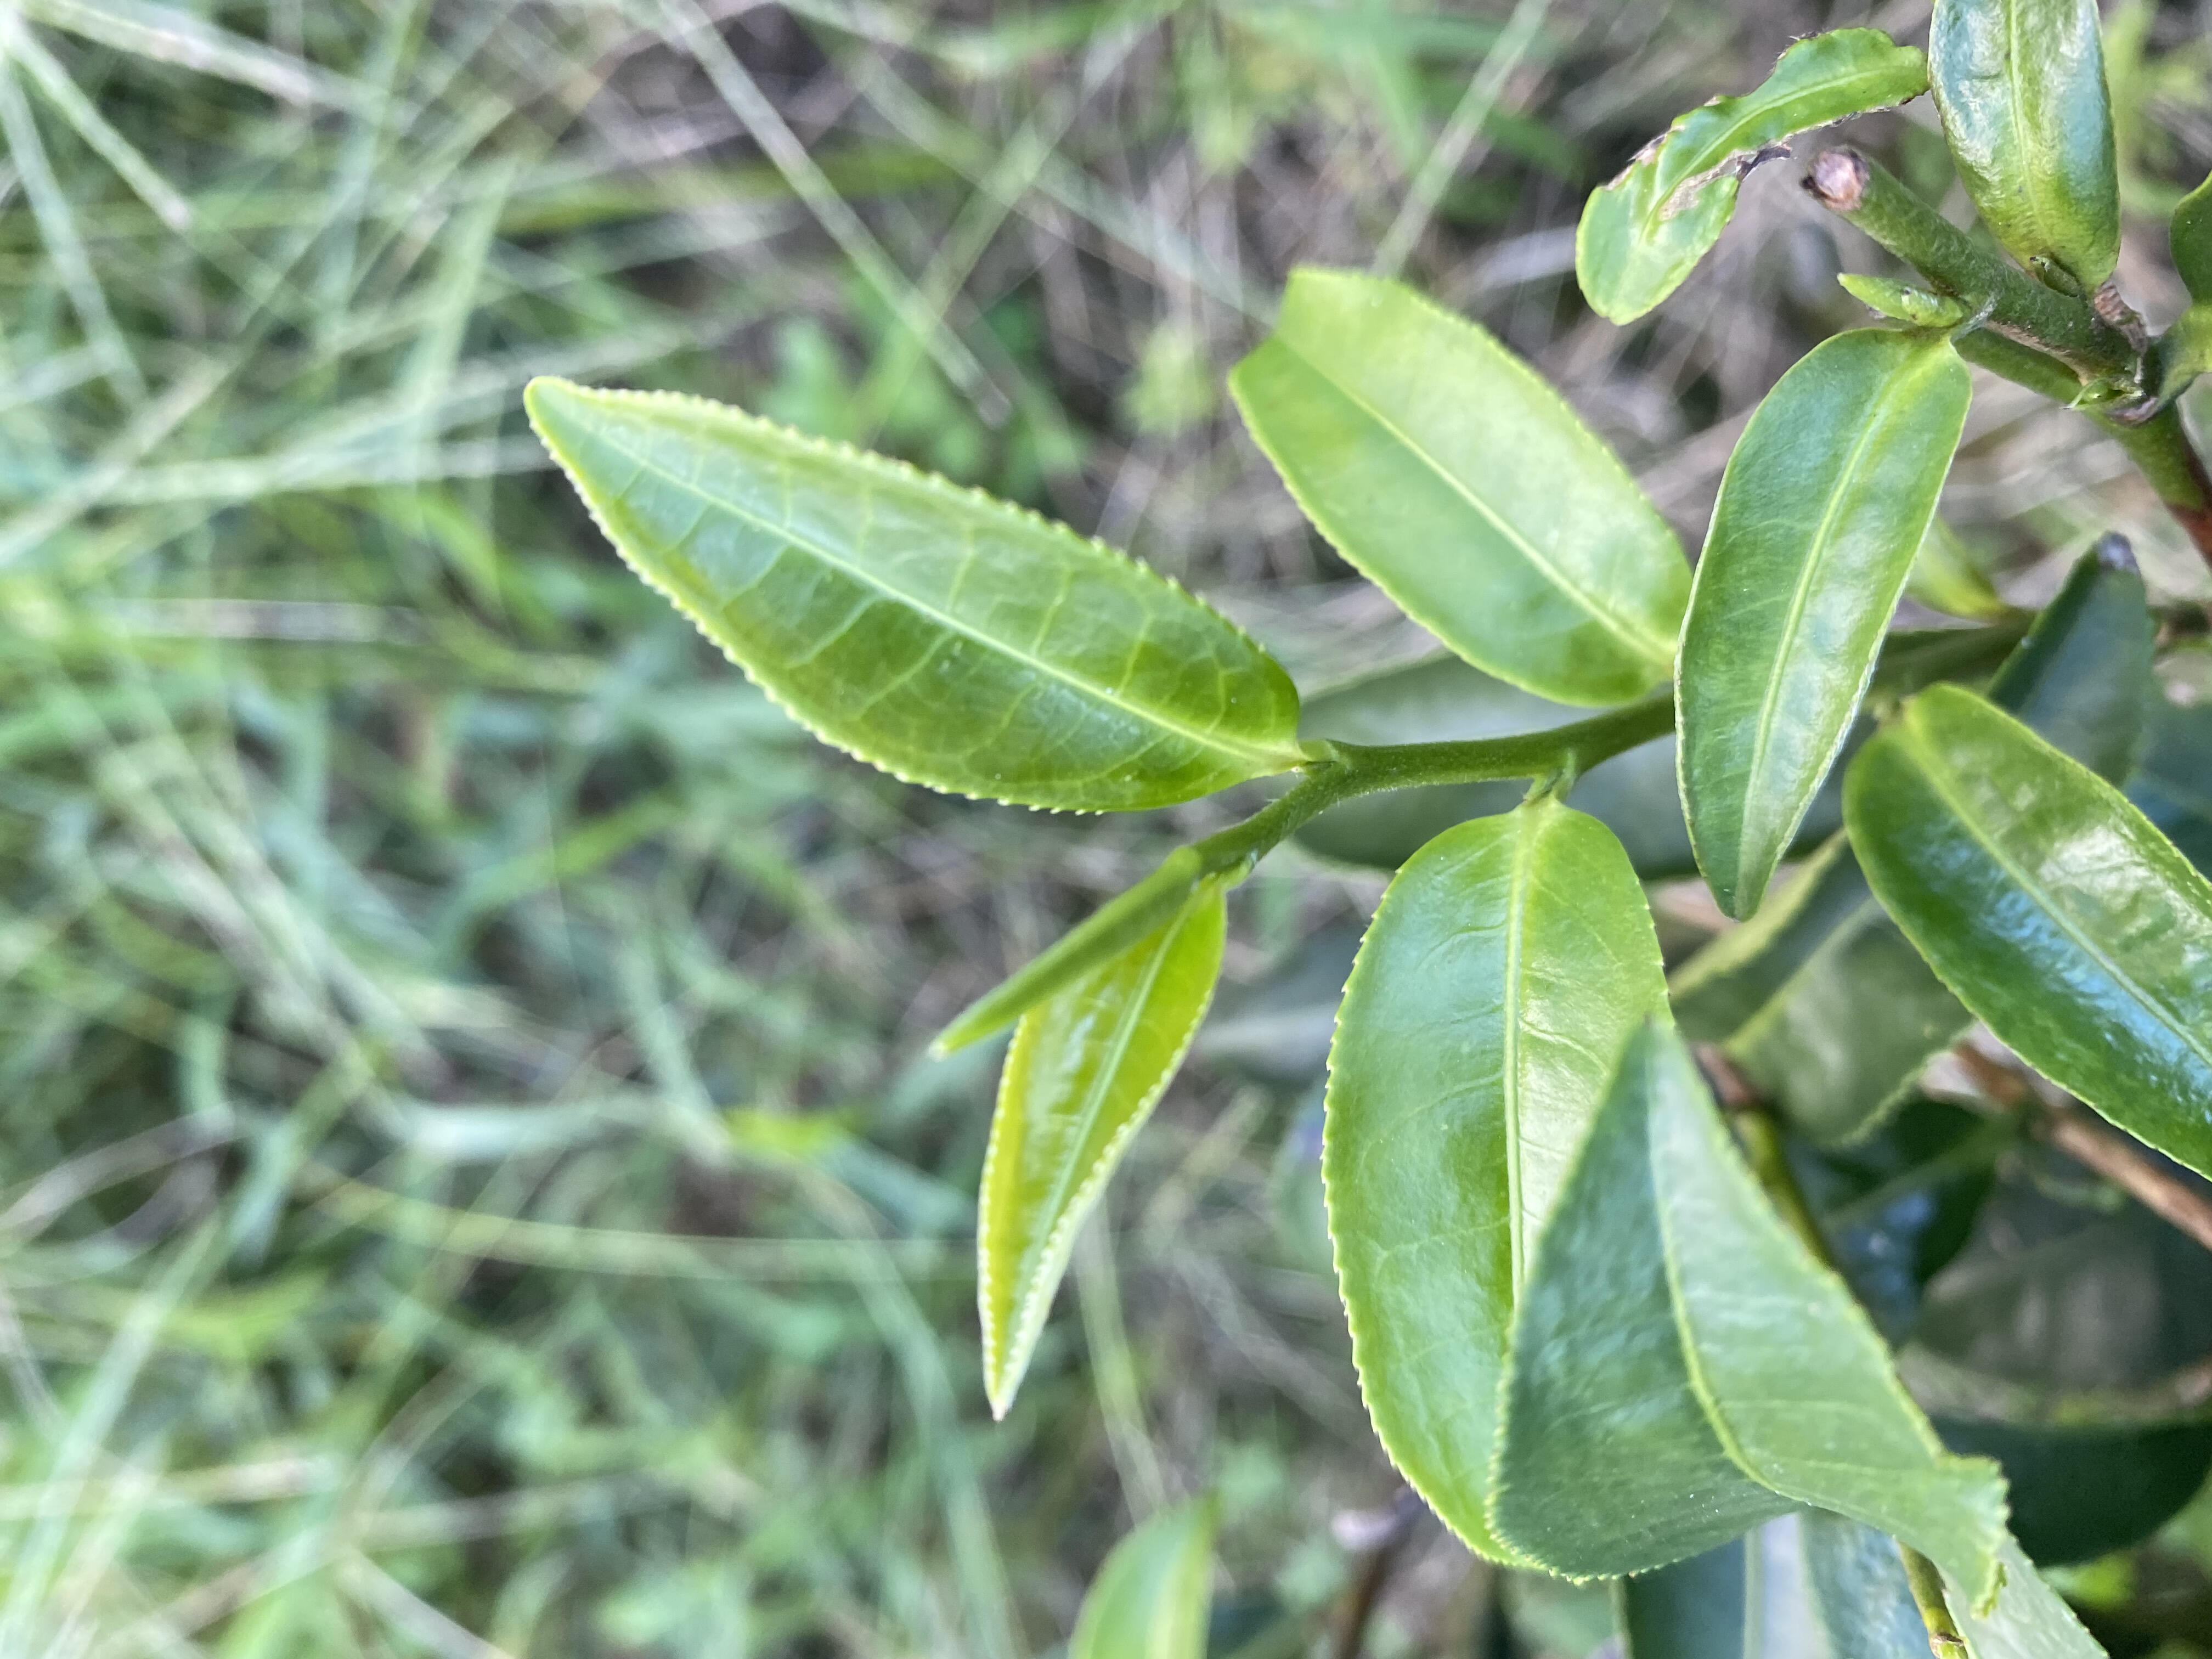chihuo_high: (1573, 23, 1928, 331)
healthy: (516, 373, 1305, 819), (1480, 1011, 2015, 1624), (1320, 805, 1665, 1561), (1841, 678, 2210, 1176), (1672, 328, 1975, 922), (972, 877, 1233, 1425)
